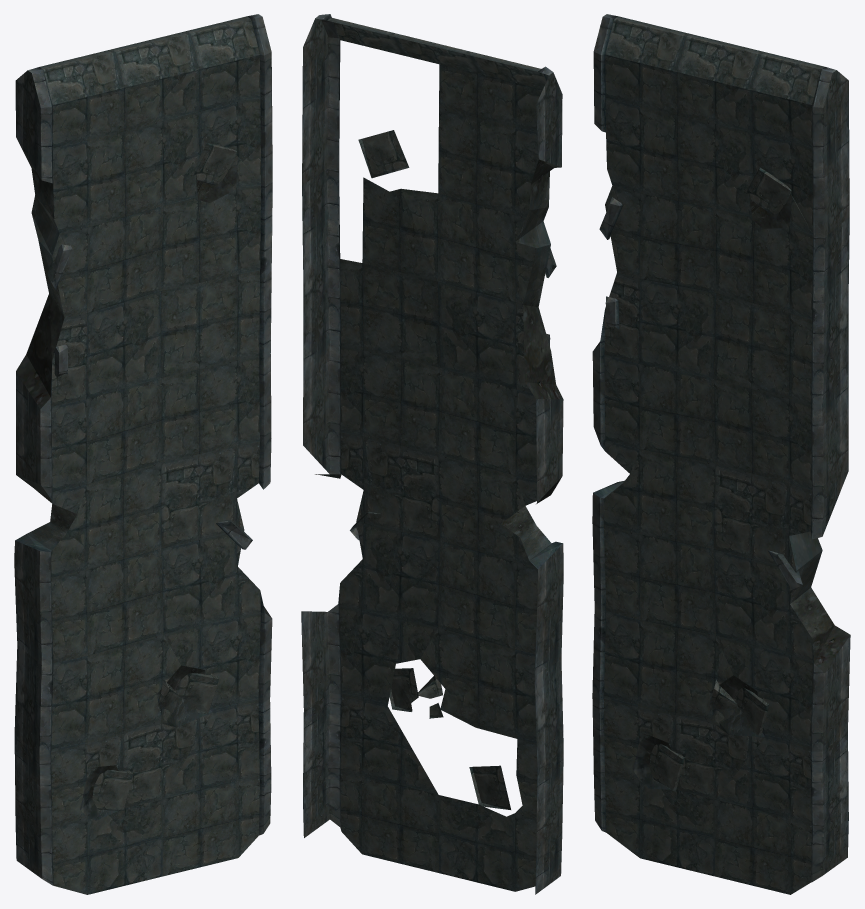
File: juqing_fuben_252_zhandoupingtai_b.obj
The picture shows the model from 3 angles, left to right: view 1: azimuth 30°, elevation 25°; view 2: azimuth 150°, elevation 25°; view 3: azimuth 330°, elevation 25°; orthographic projection.
Visible parts, largest first — view 1: juqing_fuben_252_zhandoupingtai_b; view 2: juqing_fuben_252_zhandoupingtai_b; view 3: juqing_fuben_252_zhandoupingtai_b.
Boxes of the visible parts, x1,y1,x2,y2 form: juqing_fuben_252_zhandoupingtai_b: [14, 14, 272, 894]; juqing_fuben_252_zhandoupingtai_b: [301, 14, 563, 894]; juqing_fuben_252_zhandoupingtai_b: [592, 14, 850, 894].
Size of the model in its own units: 432 by 1466 by 99.73.
Materials: 6 (6 with a texture image).
